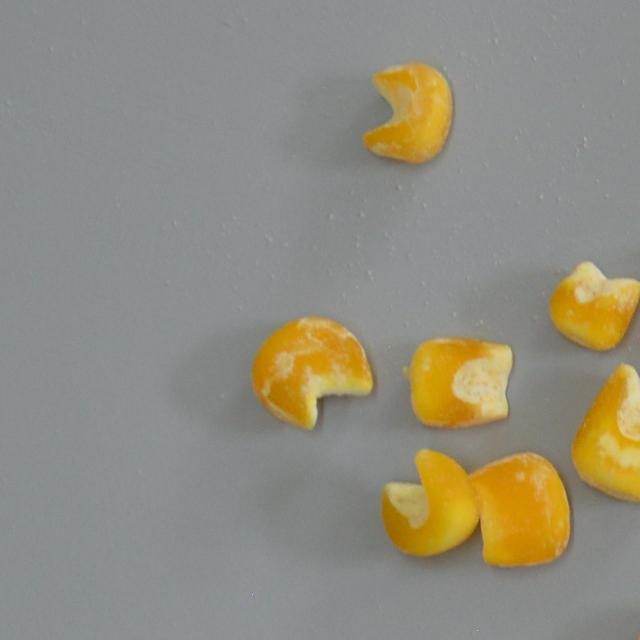no_canjicado: (380, 447, 477, 556)
pelicula: (249, 311, 376, 432), (470, 451, 572, 568), (406, 336, 512, 429), (572, 362, 640, 504), (360, 62, 452, 166), (550, 260, 640, 350)
